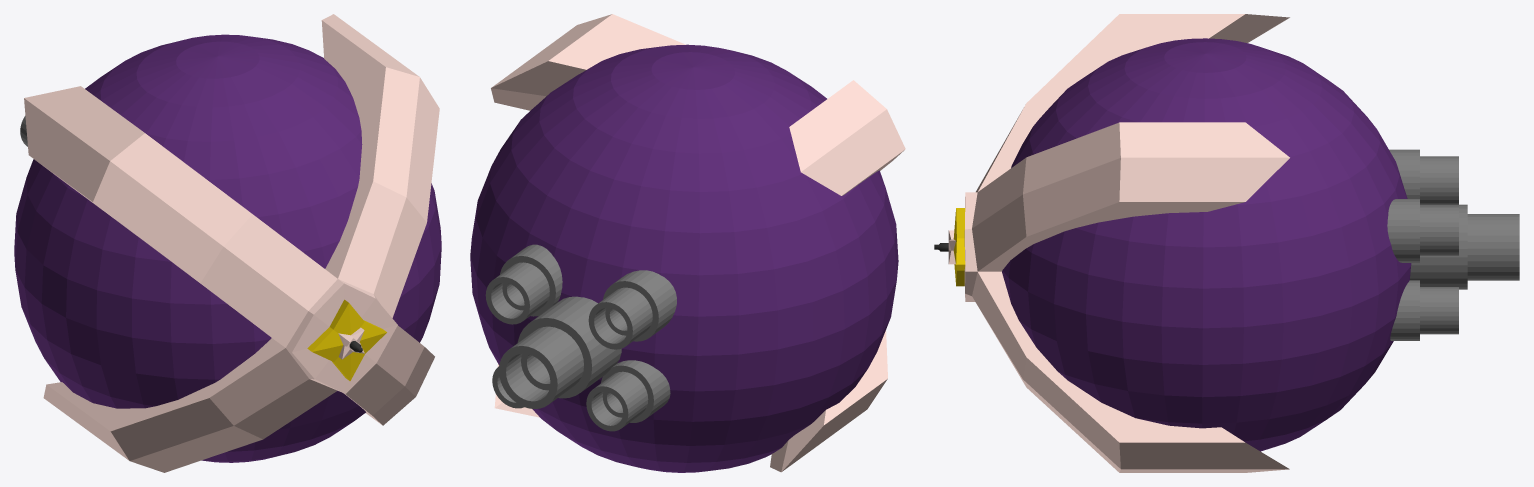
Rendered from PrototiposNaves.fbx.
The picture shows the model from 3 angles, left to right: view 1: azimuth 30°, elevation 25°; view 2: azimuth 150°, elevation 25°; view 3: azimuth 270°, elevation 25°; orthographic projection.
Visible parts, largest first — view 1: Sphere, Cube, Cube.013; view 2: Sphere, Cube.005, Cube; view 3: Sphere, Cube, Cube.005, Cube.013.
Part boxes in pixels (bbox=[...]): Sphere: bbox=[14, 34, 441, 462]; Cube: bbox=[24, 14, 439, 472]; Cube.013: bbox=[307, 299, 386, 380]; Sphere: bbox=[470, 44, 898, 472]; Cube.005: bbox=[485, 244, 676, 431]; Cube: bbox=[491, 14, 905, 472]; Sphere: bbox=[1002, 38, 1411, 451]; Cube: bbox=[948, 14, 1289, 472]; Cube.005: bbox=[1387, 149, 1519, 340]; Cube.013: bbox=[953, 208, 965, 286].
Bounding box in the file's own units: 348 × 348 × 484.
